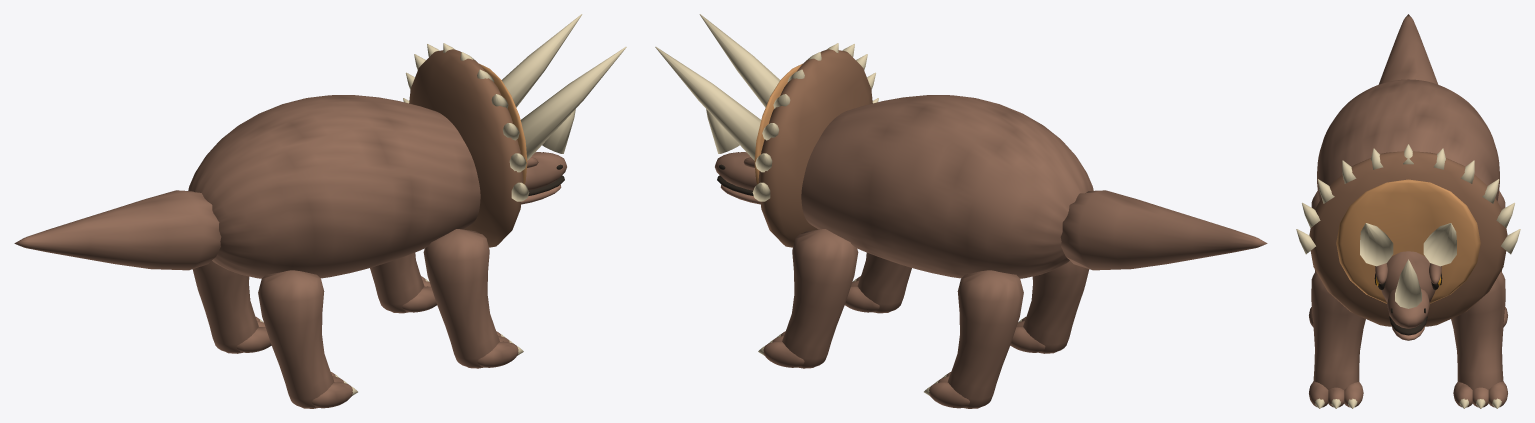
The model's file is trike.glb.
3 views of the same model, side by side, from view 1: azimuth 30°, elevation 25°; view 2: azimuth 150°, elevation 25°; view 3: azimuth 270°, elevation 25° (orthographic). The views are drawn at different scales.
Parts seen in each view (by area): view 1: Body.004_Painted reptile hide.003, Head.004_Painted keratin.003, Tail.004_Painted reptile hide.003, Leg2.001_Painted reptile hide.003, Leg1.004_Painted reptile hide.003, Head.004_Warm ivory claws.003, Leg0.004_Painted reptile hide.003, Leg3.001_Painted reptile hide.003, Head.004_Painted reptile hide.003; view 2: Body.004_Painted reptile hide.003, Head.004_Painted keratin.003, Tail.004_Painted reptile hide.003, Leg0.004_Painted reptile hide.003, Leg3.001_Painted reptile hide.003, Head.004_Warm ivory claws.003, Leg2.001_Painted reptile hide.003, Leg1.004_Painted reptile hide.003, Head.004_Painted reptile hide.003; view 3: Head.004_Painted keratin.003, Body.004_Painted reptile hide.003, Head.004_Warm ivory claws.003, Leg1.004_Painted reptile hide.003, Leg3.001_Painted reptile hide.003, Head.004_Painted reptile hide.003, Tail.004_Painted reptile hide.003, Head.004_Deep mouth and pupils.003, Leg1.004_Warm ivory claws.003, Leg3.001_Warm ivory claws.003.
Part boxes in pixels (bbox=[...]): Body.004_Painted reptile hide.003: bbox=[188, 95, 480, 278]; Head.004_Painted keratin.003: bbox=[409, 49, 527, 247]; Tail.004_Painted reptile hide.003: bbox=[14, 190, 221, 270]; Leg2.001_Painted reptile hide.003: bbox=[258, 270, 352, 408]; Leg1.004_Painted reptile hide.003: bbox=[423, 229, 518, 368]; Head.004_Warm ivory claws.003: bbox=[403, 14, 626, 201]; Leg0.004_Painted reptile hide.003: bbox=[192, 261, 271, 353]; Leg3.001_Painted reptile hide.003: bbox=[370, 252, 436, 313]; Head.004_Painted reptile hide.003: bbox=[521, 152, 566, 204]; Body.004_Painted reptile hide.003: bbox=[801, 95, 1093, 278]; Head.004_Painted keratin.003: bbox=[754, 49, 872, 247]; Tail.004_Painted reptile hide.003: bbox=[1060, 190, 1267, 270]; Leg0.004_Painted reptile hide.003: bbox=[929, 270, 1023, 408]; Leg3.001_Painted reptile hide.003: bbox=[763, 229, 858, 368]; Head.004_Warm ivory claws.003: bbox=[655, 14, 878, 201]; Leg2.001_Painted reptile hide.003: bbox=[1010, 261, 1089, 353]; Leg1.004_Painted reptile hide.003: bbox=[845, 252, 911, 313]; Head.004_Painted reptile hide.003: bbox=[715, 152, 760, 204]; Head.004_Painted keratin.003: bbox=[1309, 151, 1507, 326]; Body.004_Painted reptile hide.003: bbox=[1317, 79, 1499, 201]; Head.004_Warm ivory claws.003: bbox=[1296, 144, 1520, 308]; Leg1.004_Painted reptile hide.003: bbox=[1309, 271, 1365, 407]; Leg3.001_Painted reptile hide.003: bbox=[1451, 271, 1507, 407]; Head.004_Painted reptile hide.003: bbox=[1375, 251, 1441, 340]; Tail.004_Painted reptile hide.003: bbox=[1379, 14, 1437, 84]; Head.004_Deep mouth and pupils.003: bbox=[1374, 273, 1442, 335]; Leg1.004_Warm ivory claws.003: bbox=[1315, 398, 1357, 408]; Leg3.001_Warm ivory claws.003: bbox=[1459, 398, 1501, 408].
Size of the model in its own units: 3.07 by 1.38 by 1.06.
